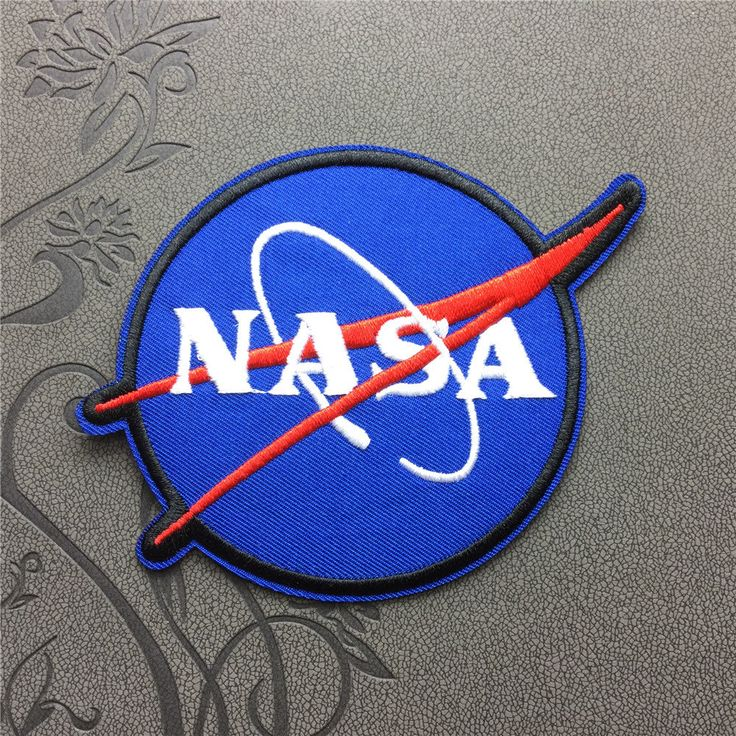NASA: (91, 143, 652, 604)
